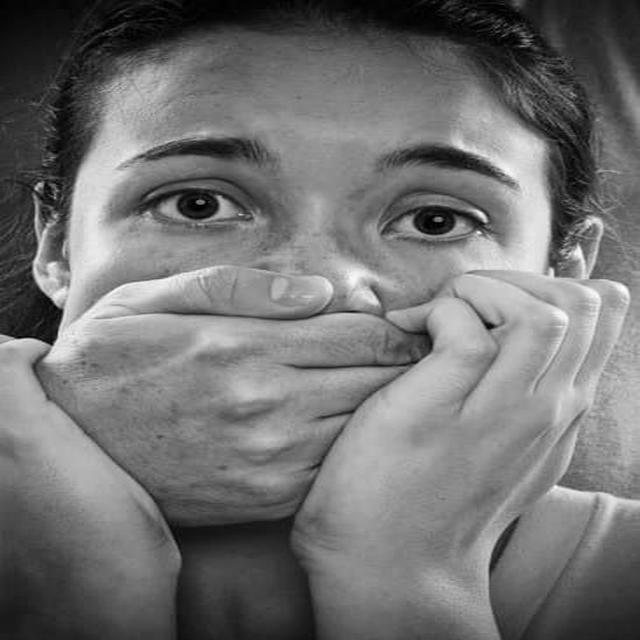Fear: (77, 34, 550, 514)
